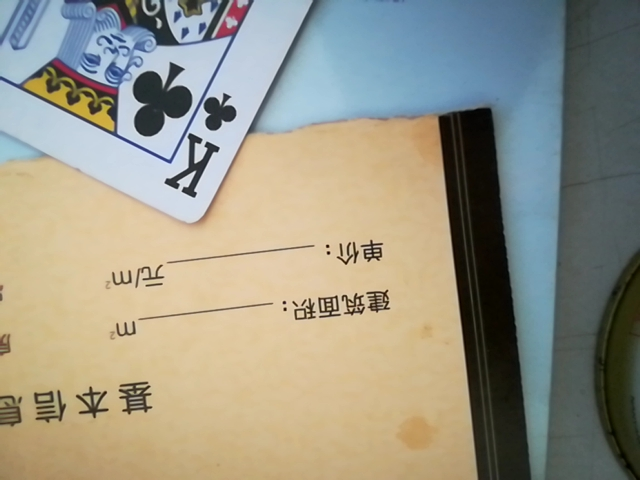mh k: (2, 0, 384, 226)
